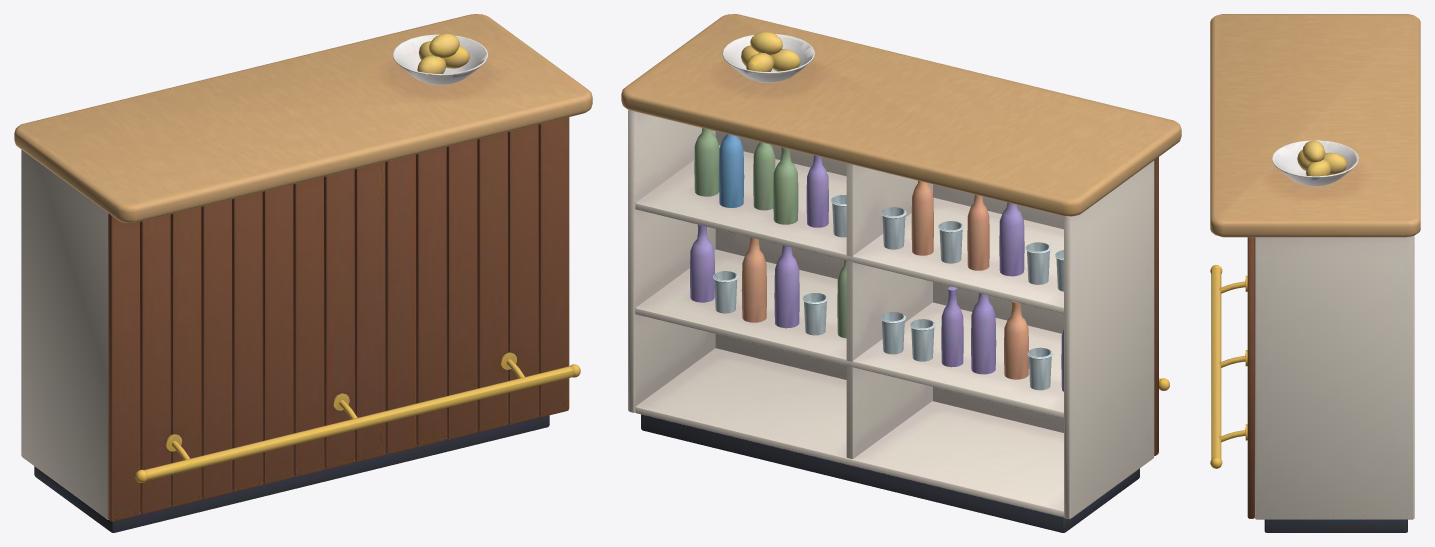
The model's file is bar-counter.glb.
The picture shows the model from 3 angles, left to right: view 1: azimuth 30°, elevation 25°; view 2: azimuth 150°, elevation 25°; view 3: azimuth 270°, elevation 25°; orthographic projection. The views are drawn at different scales.
Parts seen in each view (by area): view 1: bar-counter_body; view 2: bar-counter_body; view 3: bar-counter_body.
Part boxes in pixels (x1,y1,x2,y2): bar-counter_body: (14,14,592,532); bar-counter_body: (621,14,1181,532); bar-counter_body: (1210,14,1420,532).
Bounding box in the file's own units: 1.56 × 1.23 × 0.6586.
Materials: 1 (1 with a texture image).
